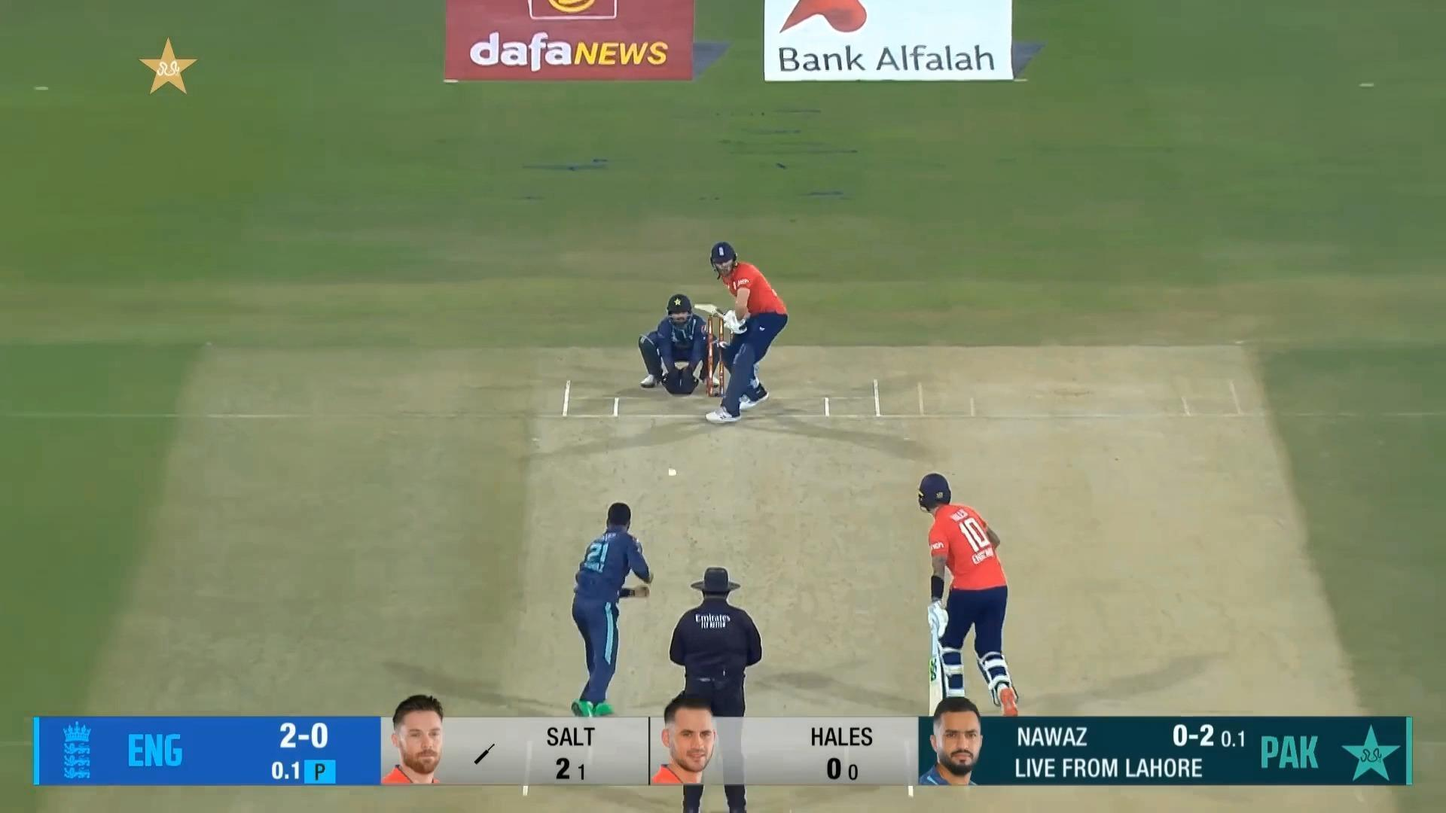BM 1: (694, 242, 788, 424)
BO: (571, 501, 654, 717)
